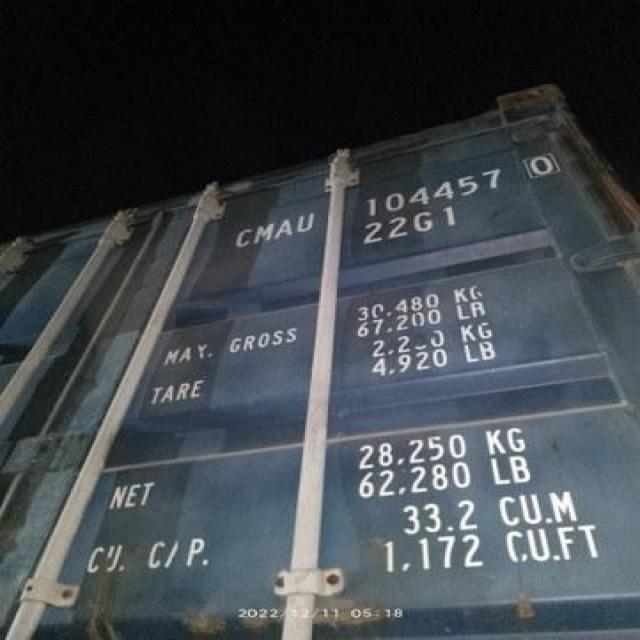container_number_h: (197, 143, 590, 262)
